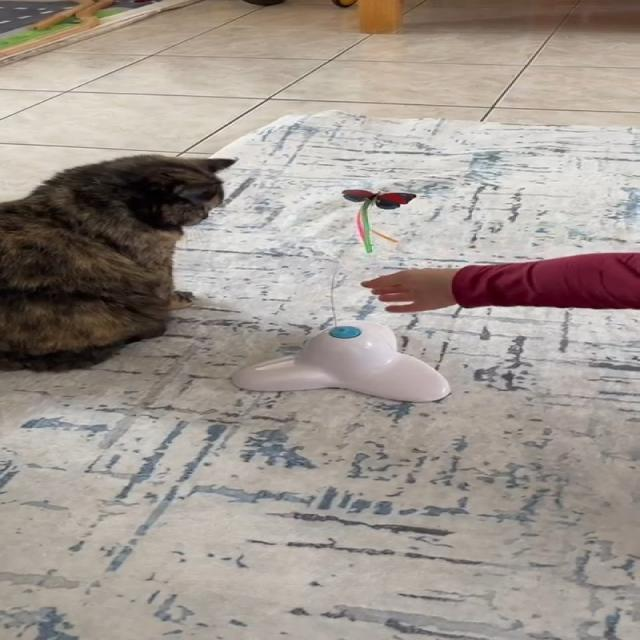authorized: (0, 152, 237, 372)
